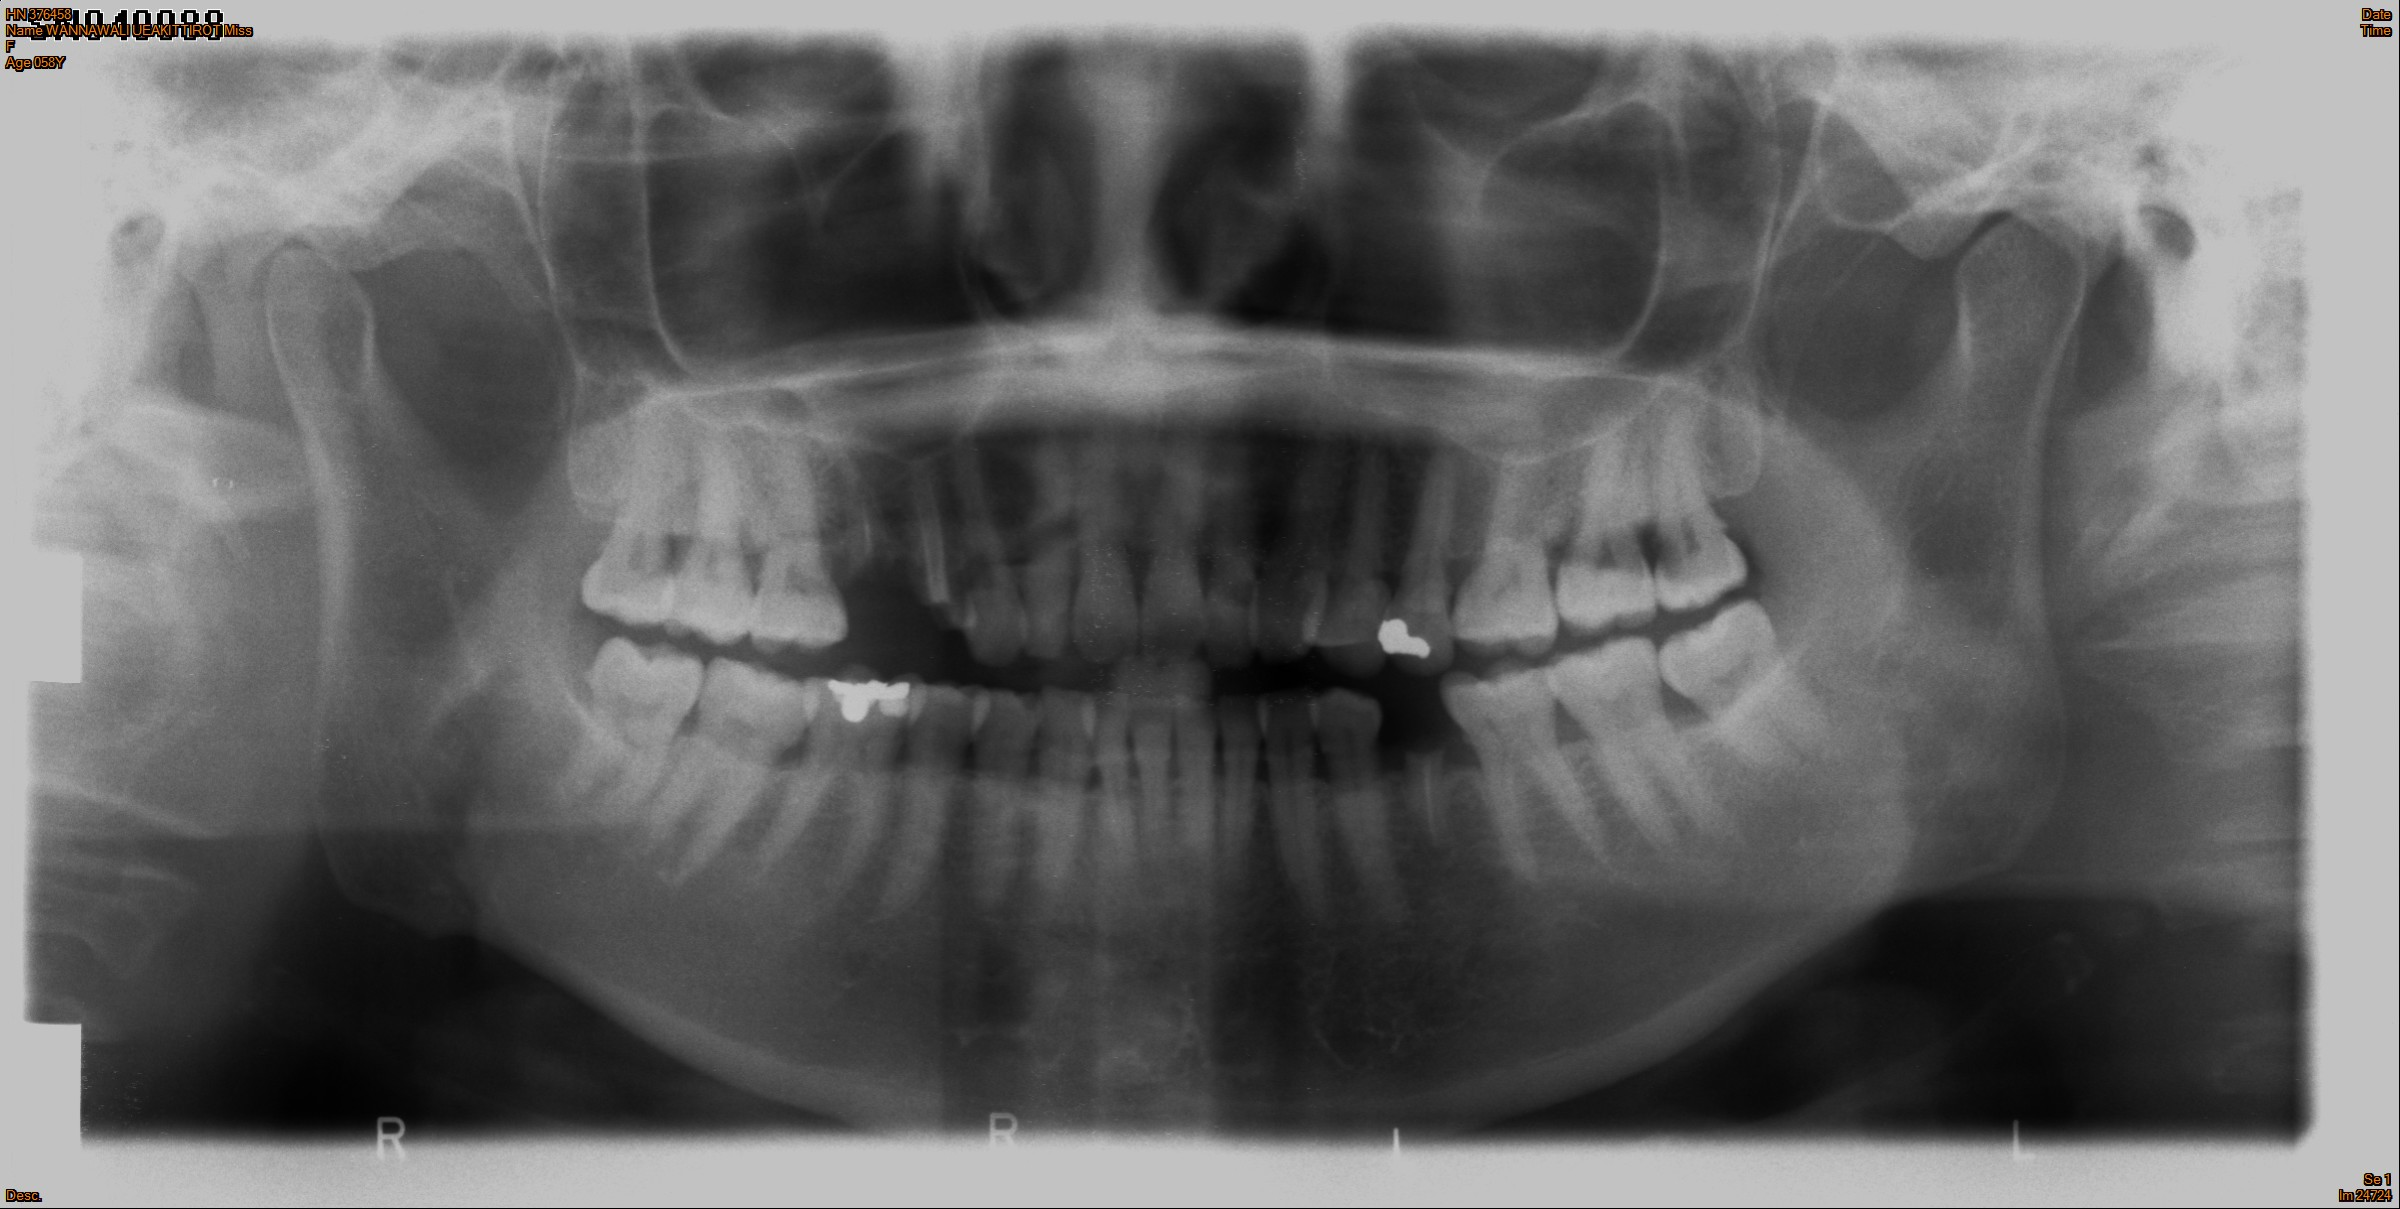periodontitis: (1546, 637, 1760, 874), (629, 651, 820, 896), (1427, 665, 1625, 897), (735, 672, 929, 904), (1545, 404, 1672, 638), (1296, 685, 1417, 928), (1447, 419, 1563, 669), (734, 433, 857, 663), (649, 433, 769, 652)
